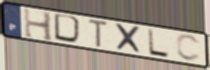C: (175, 34, 203, 63)
D: (53, 12, 85, 45)
H: (22, 6, 55, 43)
L: (146, 28, 171, 59)
T: (87, 18, 110, 49)
X: (113, 22, 144, 56)
